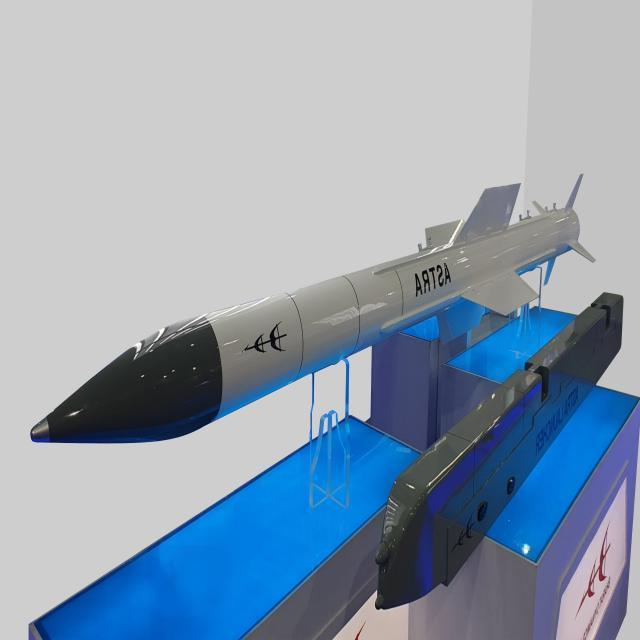Missile: (21, 188, 600, 454)
